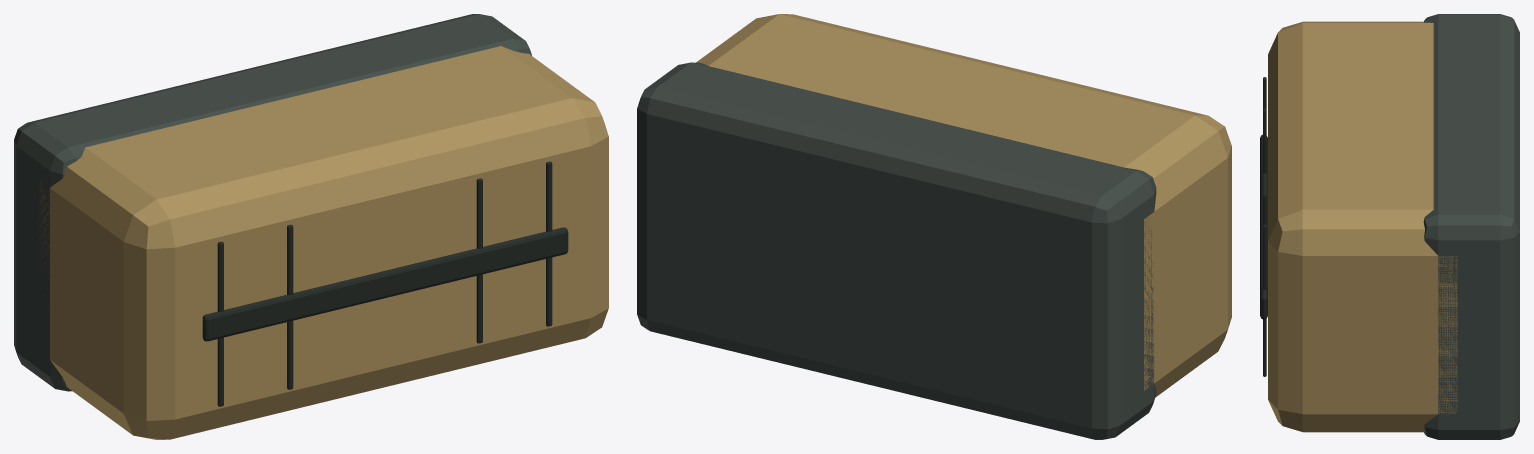
Rendered from GAIN_Handle.fbx.
The picture shows the model from 3 angles, left to right: view 1: azimuth 30°, elevation 25°; view 2: azimuth 150°, elevation 25°; view 3: azimuth 270°, elevation 25°; orthographic projection. The views are drawn at different scales.
Visible parts, largest first — view 1: GAIN_Handle_EXPORT; view 2: GAIN_Handle_EXPORT; view 3: GAIN_Handle_EXPORT.
Boxes of the visible parts, x1,y1,x2,y2 form: GAIN_Handle_EXPORT: [14, 14, 608, 439]; GAIN_Handle_EXPORT: [637, 14, 1231, 439]; GAIN_Handle_EXPORT: [1260, 14, 1519, 439].
Bounding box in the file's own units: 0.132 × 0.064 × 0.067.
